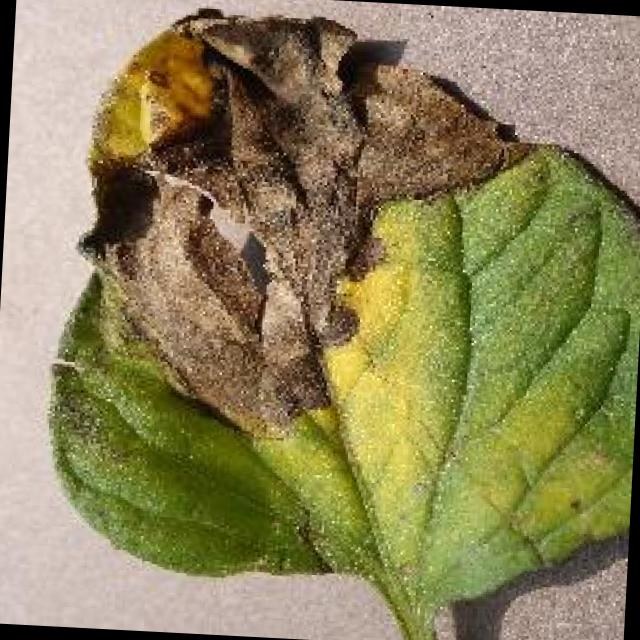Tomato_Late_Blight: (69, 0, 535, 453)
